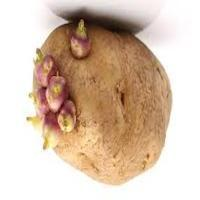biodegradable: (31, 20, 174, 187)
